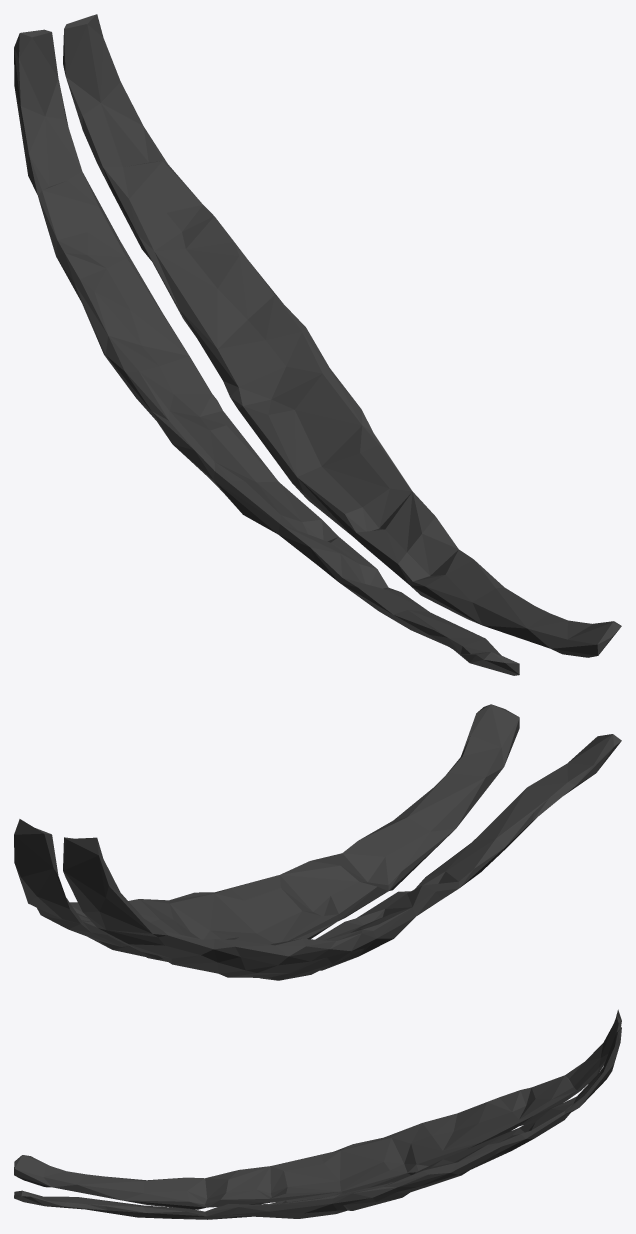
Rendered from m_rectus_abdominis.glb.
3 renders of one model, top to bottom at view 1: azimuth 30°, elevation 25°; view 2: azimuth 150°, elevation 25°; view 3: azimuth 270°, elevation 25°, orthographic. The views are drawn at different scales.
Visible parts, largest first — view 1: m_rectus_abdominis; view 2: m_rectus_abdominis; view 3: m_rectus_abdominis.
Part boxes in pixels (box(x1,y1,x2,y2)): m_rectus_abdominis: box(14, 14, 621, 675); m_rectus_abdominis: box(14, 704, 621, 980); m_rectus_abdominis: box(14, 1009, 621, 1219).
Size of the model in its own units: 0.0034 by 0.0057 by 0.0162.
Materials: 1 (1 with a texture image).
